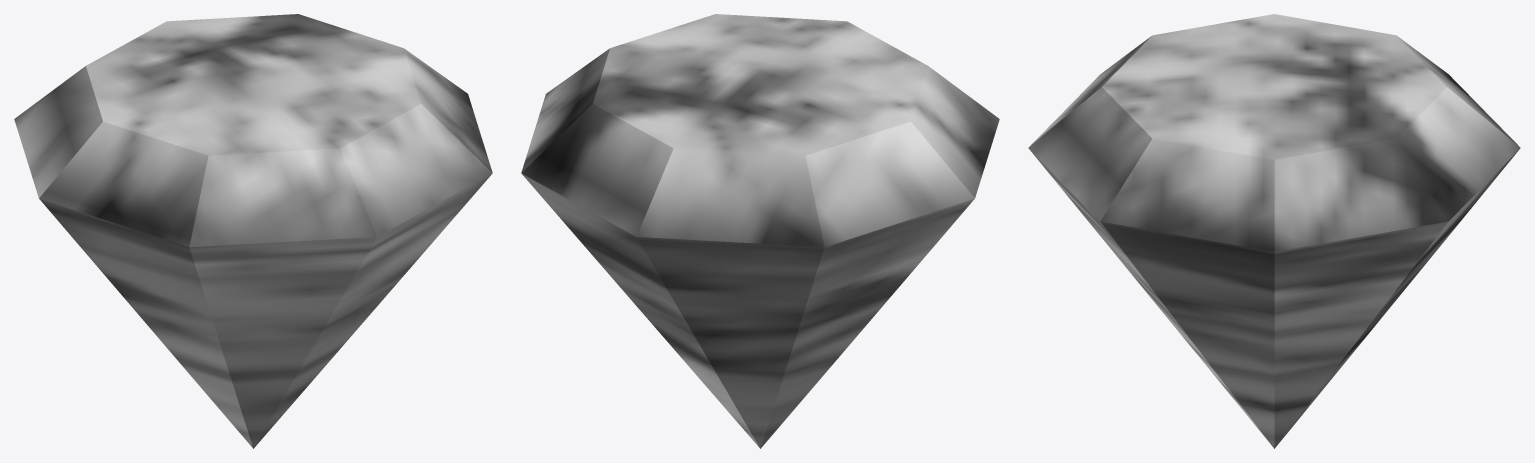
The model's file is JewelModel.fbx.
3 renders of one model, left to right at view 1: azimuth 30°, elevation 25°; view 2: azimuth 150°, elevation 25°; view 3: azimuth 270°, elevation 25°, orthographic.
Visible parts, largest first — view 1: Jewel; view 2: Jewel; view 3: Jewel.
Part boxes in pixels (x1,y1,x2,y2): Jewel: (14, 14, 492, 448); Jewel: (521, 14, 999, 448); Jewel: (1028, 14, 1520, 448).
Size of the model in its own units: 0.5489 by 0.4635 by 0.5489.
Materials: 1 (1 with a texture image).
